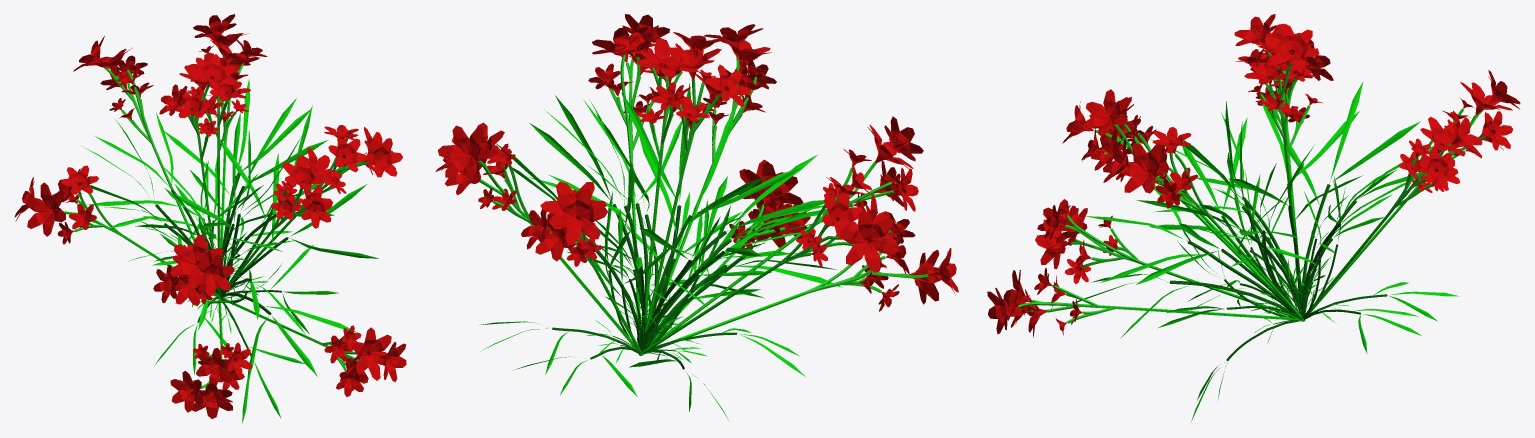
The model's file is flower.obj.
The picture shows the model from 3 angles, left to right: view 1: azimuth 30°, elevation 25°; view 2: azimuth 150°, elevation 25°; view 3: azimuth 270°, elevation 25°; orthographic projection. The views are drawn at different scales.
Visible parts, largest first — view 1: 1coreopsi; view 2: 1coreopsi; view 3: 1coreopsi.
Part boxes in pixels (left/top/right/bottom): 1coreopsi: left=14, top=14, right=406, bottom=423; 1coreopsi: left=435, top=14, right=958, bottom=421; 1coreopsi: left=987, top=14, right=1520, bottom=422.
Bounding box in the file's own units: 770 × 785 × 978.
